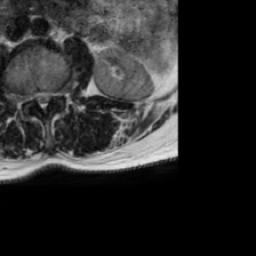CCS_normal: (39, 83, 46, 116)
LFS_stenosis: (53, 83, 61, 104)
LLS_stenosis: (46, 83, 53, 107)
RFS_stenosis: (24, 84, 32, 108)
RLS_stenosis: (32, 83, 39, 108)
